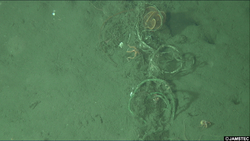rope: (130, 2, 182, 141)
